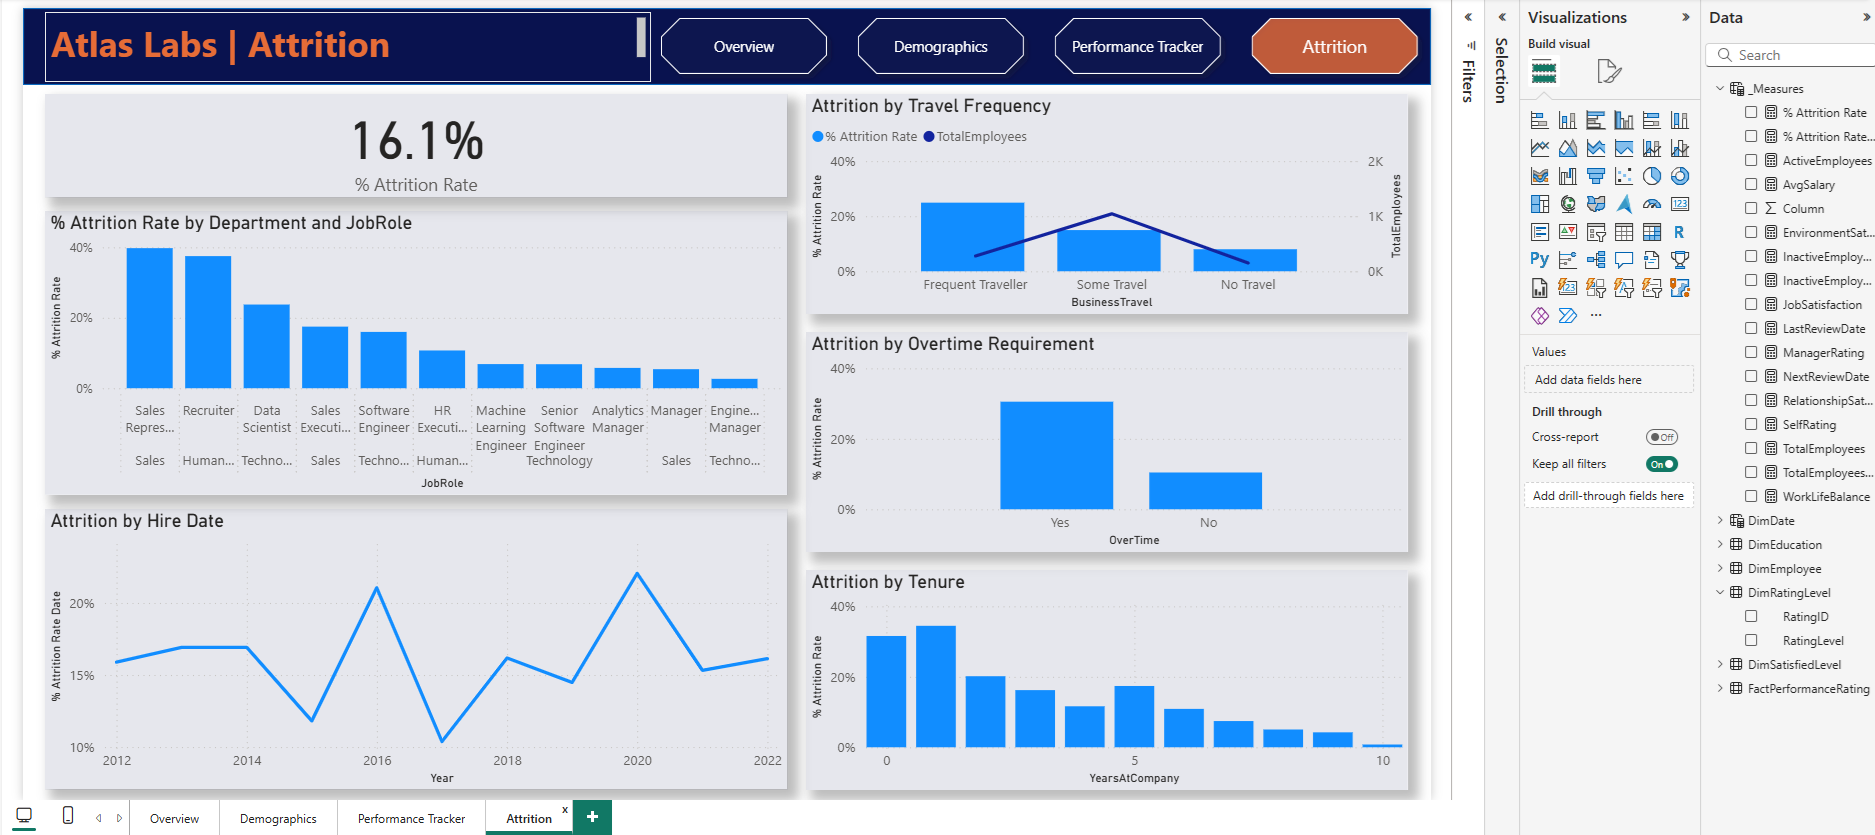

What the dashboard file says about the page in this screenshot:
{"tool":"powerbi","page":{"name":"Attrition","canvas":[1280,720],"ordinal":3},"visuals":[{"type":"card","fields":{"Values":["_Measures.% Attrition Rate"]},"box":[19.9,77.9,674.7,94.2],"z":0},{"type":"columnChart","fields":{"Y":["_Measures.% Attrition Rate"],"Category":["DimEmployee.Department","DimEmployee.JobRole"]},"box":[19.9,184.8,674.7,258.1],"z":1000},{"type":"lineChart","title":"Attrition by Hire Date","fields":{"Y":["_Measures.% Attrition Rate Date"],"Category":["DimDate.Date.Variation.Date Hierarchy.Year","DimDate.Date.Variation.Date Hierarchy.Quarter","DimDate.Date.Variation.Date Hierarchy.Month","DimDate.Date.Variation.Date Hierarchy.Day"]},"box":[19.9,455.5,674.7,255.4],"z":2000},{"type":"lineStackedColumnComboChart","title":" Attrition by Travel Frequency","fields":{"Category":["DimEmployee.BusinessTravel"],"Y2":["_Measures.TotalEmployees"],"Y":["_Measures.% Attrition Rate"]},"box":[711.8,77.9,547,200.2],"z":3000},{"type":"columnChart","title":" Attrition by Overtime Requirement","fields":{"Category":["DimEmployee.OverTime"],"Y":["_Measures.% Attrition Rate"]},"box":[711.8,294.3,547,200.2],"z":4000},{"type":"columnChart","title":" Attrition by Tenure","fields":{"Y":["_Measures.% Attrition Rate"],"Category":["DimEmployee.YearsAtCompany"]},"box":[711.8,510.8,547,200.2],"z":5000},{"type":"shape","box":[0,0,1280,70],"z":6000},{"type":"pageNavigator","box":[570.6,0,709.1,69.7],"z":7000},{"type":"textbox","box":[19.9,3.6,550.6,63.4],"z":8000}]}

Visuals, with their boxes on the page's 1280x720 design canvas (x1, y1, x2, y2). These are canvas units, not pixel positions in the 1875x835 screenshot, which may show the page scaled, cropped or inside an application window:
card - _Measures.% Attrition Rate: bbox(20, 78, 695, 172)
columnChart - _Measures.% Attrition Rate x DimEmployee.Department: bbox(20, 185, 695, 443)
"Attrition by Hire Date" lineChart: bbox(20, 456, 695, 711)
" Attrition by Travel Frequency" lineStackedColumnComboChart: bbox(712, 78, 1259, 278)
" Attrition by Overtime Requirement" columnChart: bbox(712, 294, 1259, 494)
" Attrition by Tenure" columnChart: bbox(712, 511, 1259, 711)
shape: bbox(0, 0, 1280, 70)
pageNavigator: bbox(571, 0, 1280, 70)
textbox: bbox(20, 4, 570, 67)
